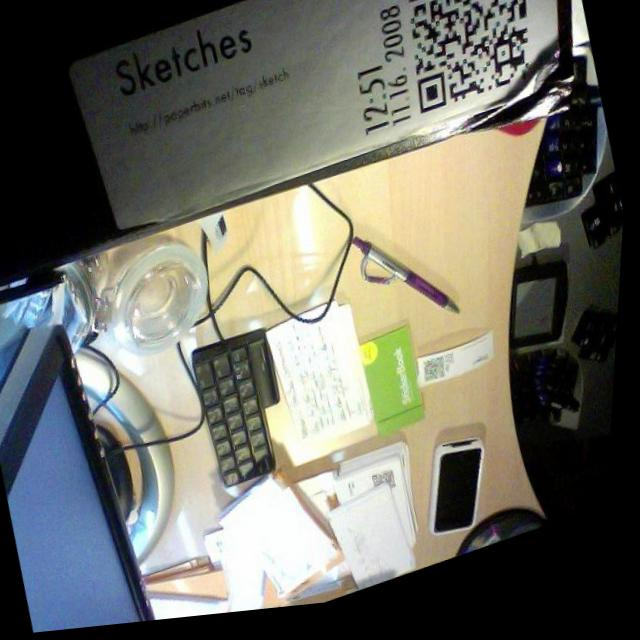qrcode: (387, 1, 557, 126)
